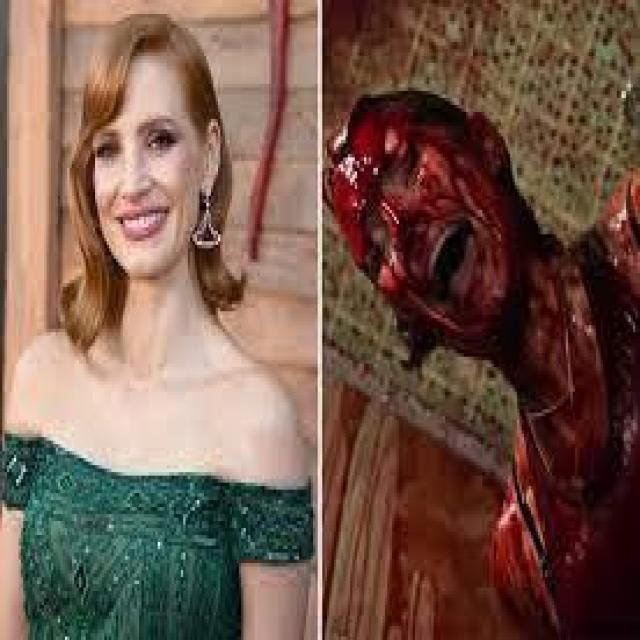flood: (327, 93, 640, 625)
